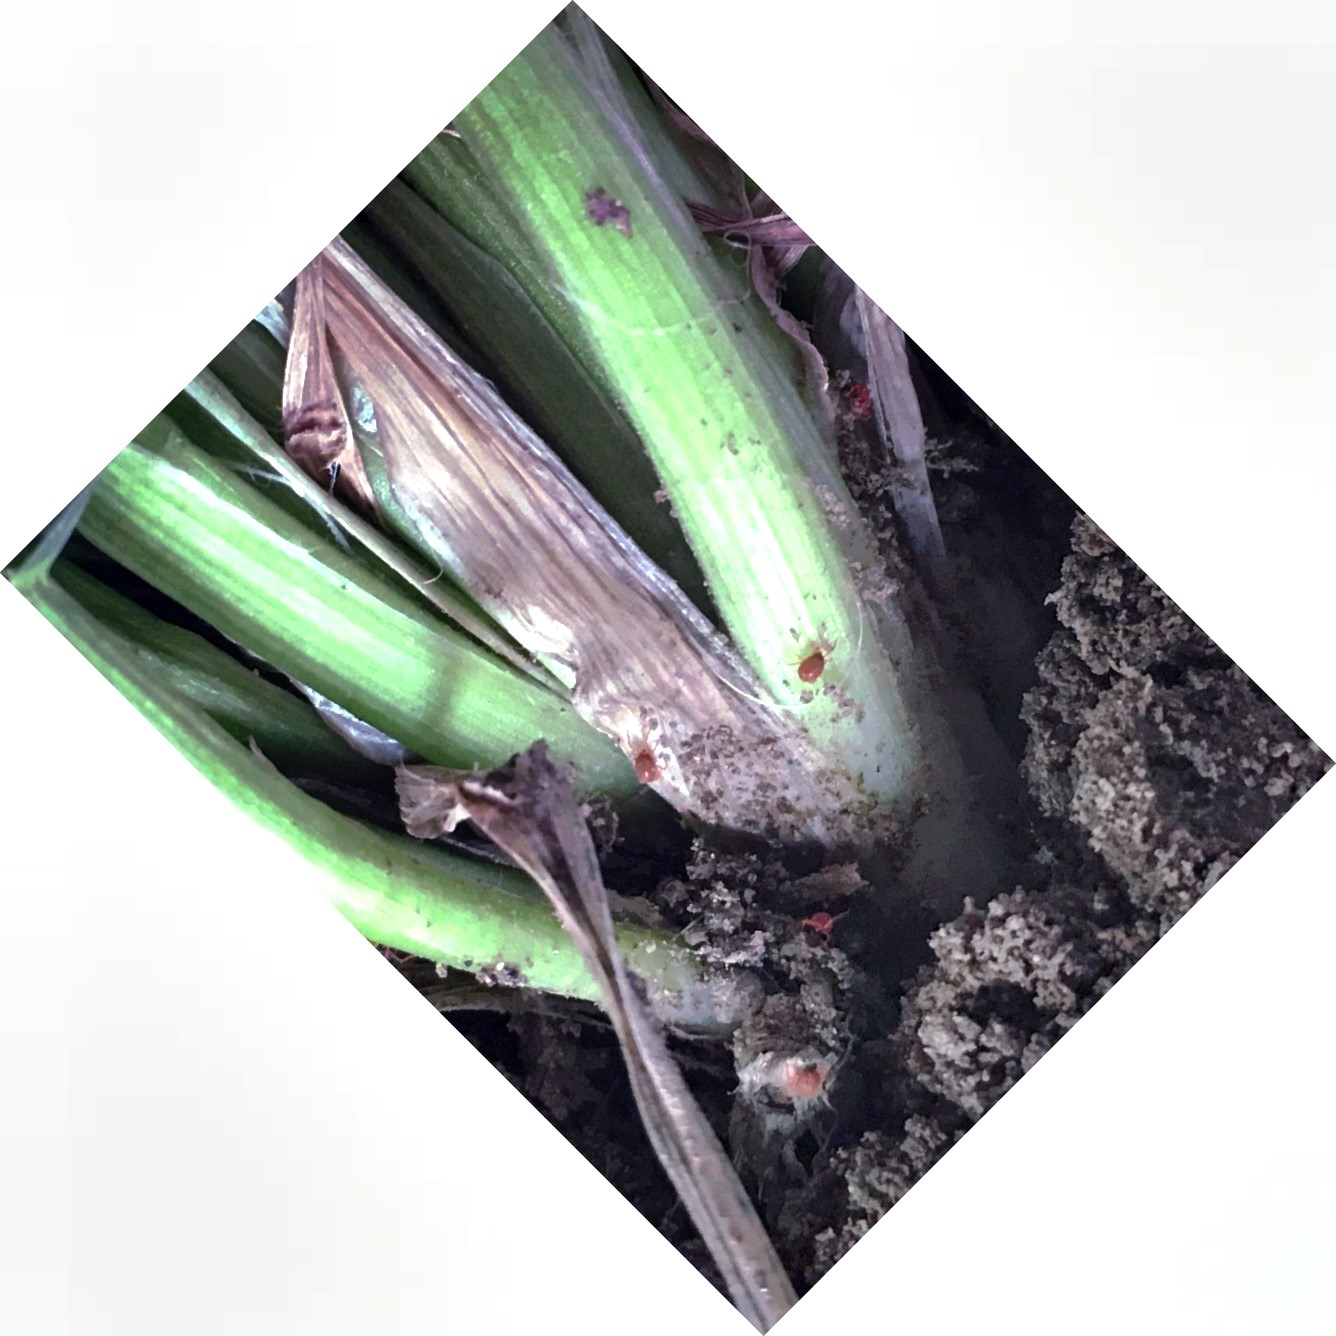Wheat Red Spider: (777, 634, 839, 689)
